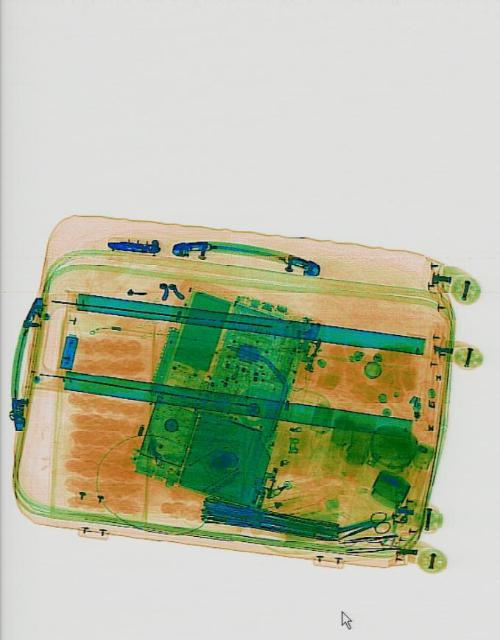Scissors: (332, 503, 391, 552)
